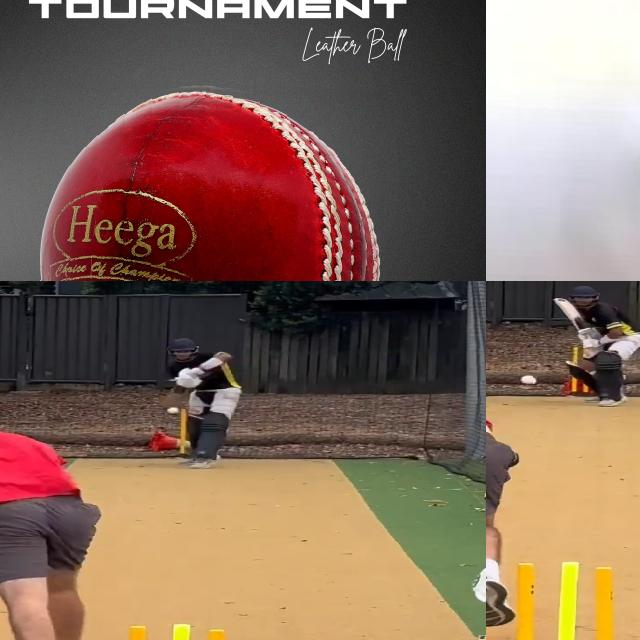Cricket ball: (29, 77, 387, 281), (486, 0, 640, 281), (519, 374, 537, 385), (166, 407, 182, 416)
Stumps: (497, 559, 628, 640)
